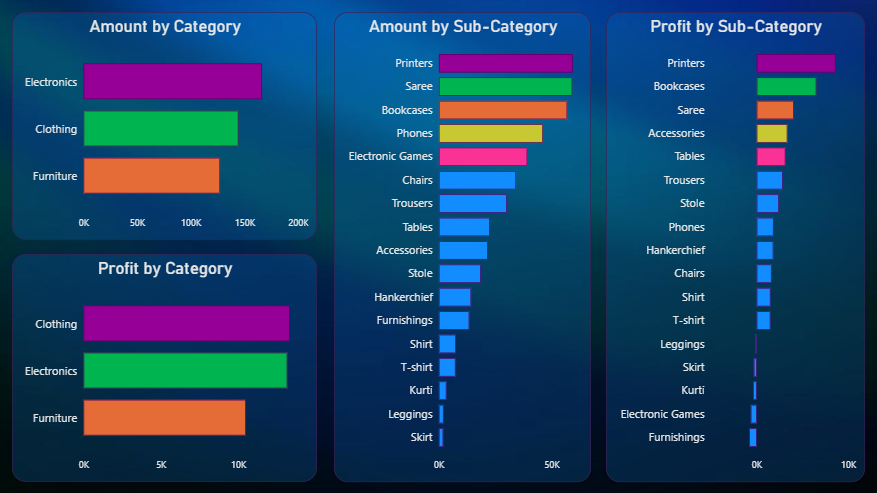

The page's visual inventory and layout, read from the dashboard file:
{"tool":"powerbi","page":{"name":"Page 2","canvas":[1280,720],"ordinal":1},"visuals":[{"type":"barChart","title":"Amount by Category","fields":{"Category":["Details.Category"],"Y":["Sum(Details.Amount)"]},"box":[25.9,21.6,439.2,328.3],"z":0},{"type":"barChart","title":"Amount by Sub-Category","fields":{"Y":["Sum(Details.Amount)"],"Category":["Details.Sub-Category"]},"box":[489.6,21.6,370.1,676.8],"z":1000},{"type":"barChart","title":"Profit by Category","fields":{"Y":["Sum(Details.Profit)"],"Category":["Details.Category"]},"box":[25.9,370.1,439.2,328.3],"z":2000},{"type":"barChart","title":"Profit by Sub-Category","fields":{"Category":["Details.Sub-Category"],"Y":["Sum(Details.Profit)"]},"box":[881.3,21.6,373,676.8],"z":3000}]}

Visuals, with their boxes in screenshot pixels (x1, y1, x2, y2), scaled from the page's 1280x720 canvas onto the 877x493 screenshot:
"Amount by Category" barChart: detection(18, 15, 319, 240)
"Amount by Sub-Category" barChart: detection(335, 15, 589, 478)
"Profit by Category" barChart: detection(18, 253, 319, 478)
"Profit by Sub-Category" barChart: detection(604, 15, 859, 478)
